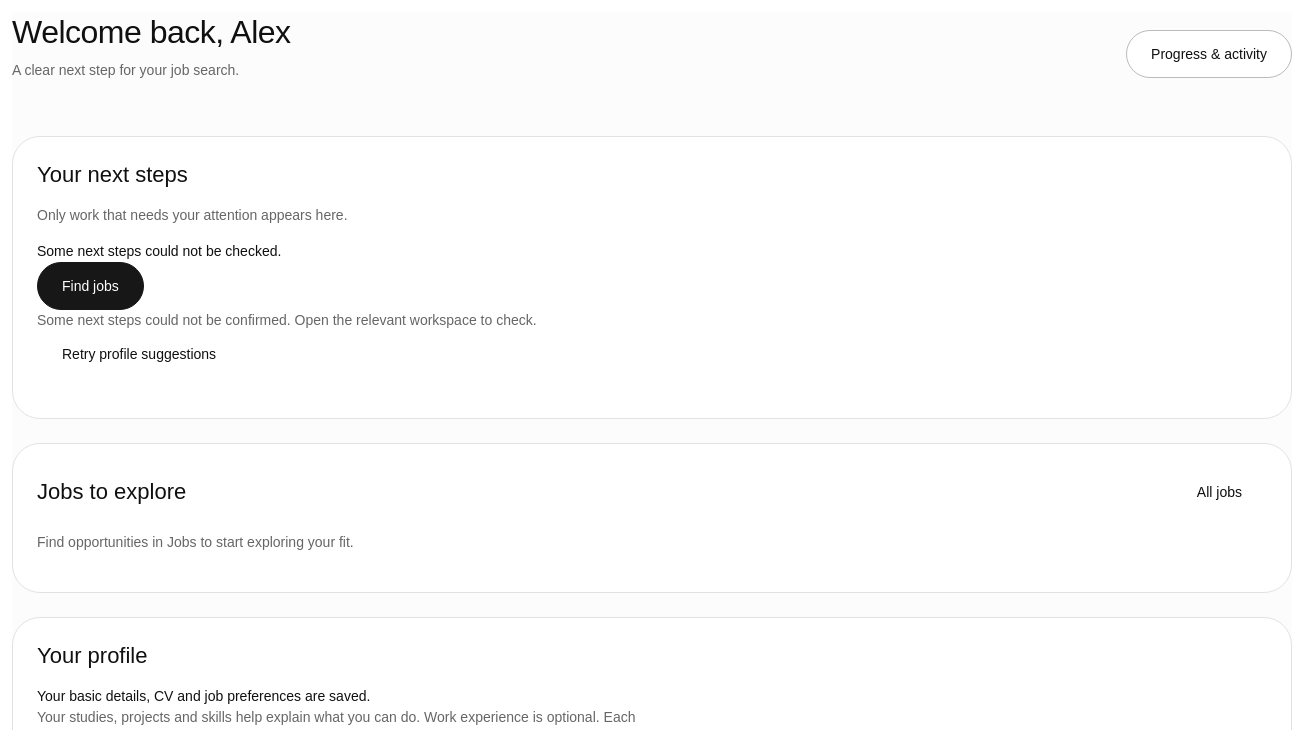
it: Student Home next steps › does not report all clear when a required lookup fails, and can retry
This screenshot has width=1304, height=730.
Click the button "Retry profile suggestions". click: (139, 354)
box: [37, 330, 241, 378]
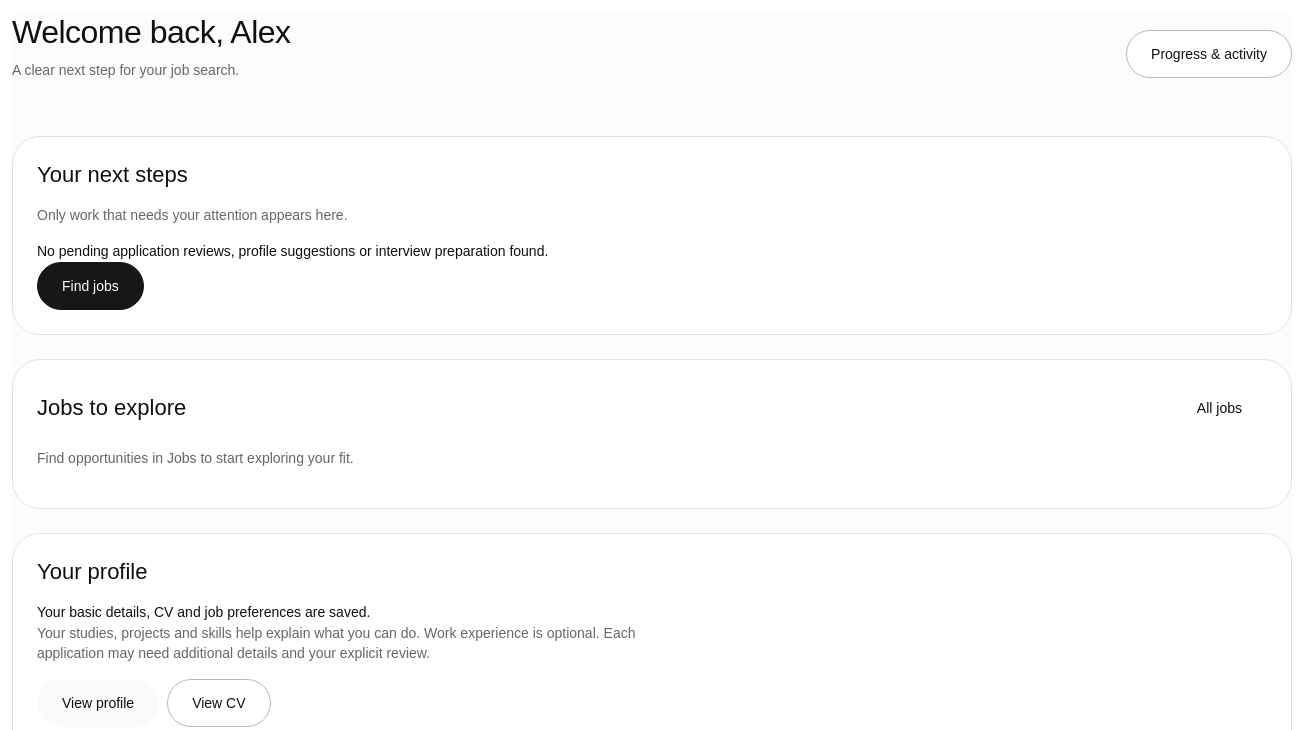
Now the text "No pending application reviews, profile suggestions or interview preparation found." is shown, box [37, 243, 548, 259]
